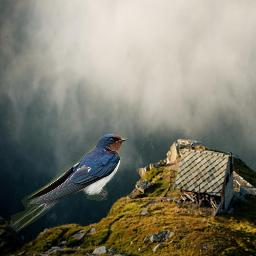Swallow: (11, 134, 128, 232)
